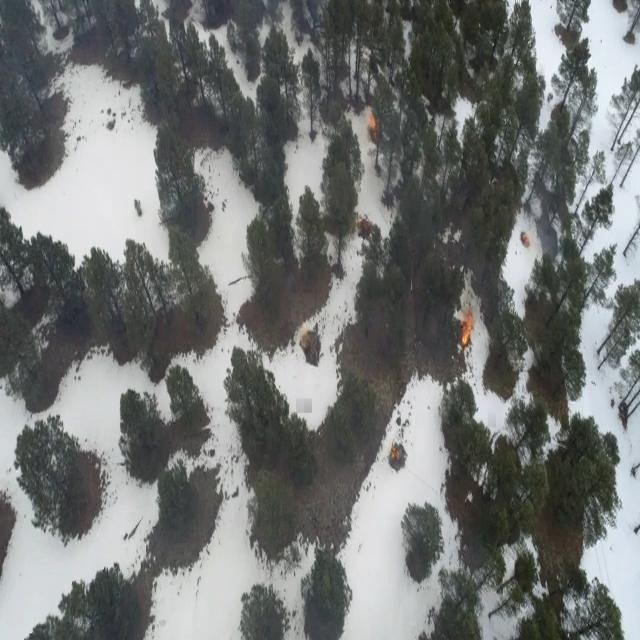Fire: (458, 305, 478, 351), (368, 110, 380, 140), (389, 445, 404, 465), (521, 233, 533, 248)
